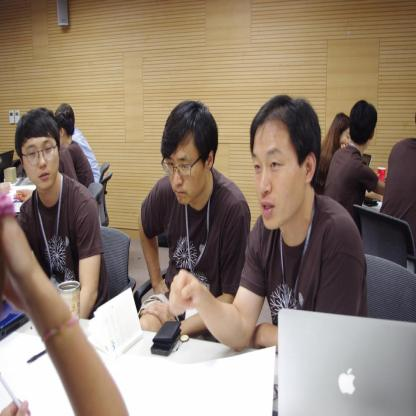board: (272, 306, 410, 412), (378, 167, 386, 181)
